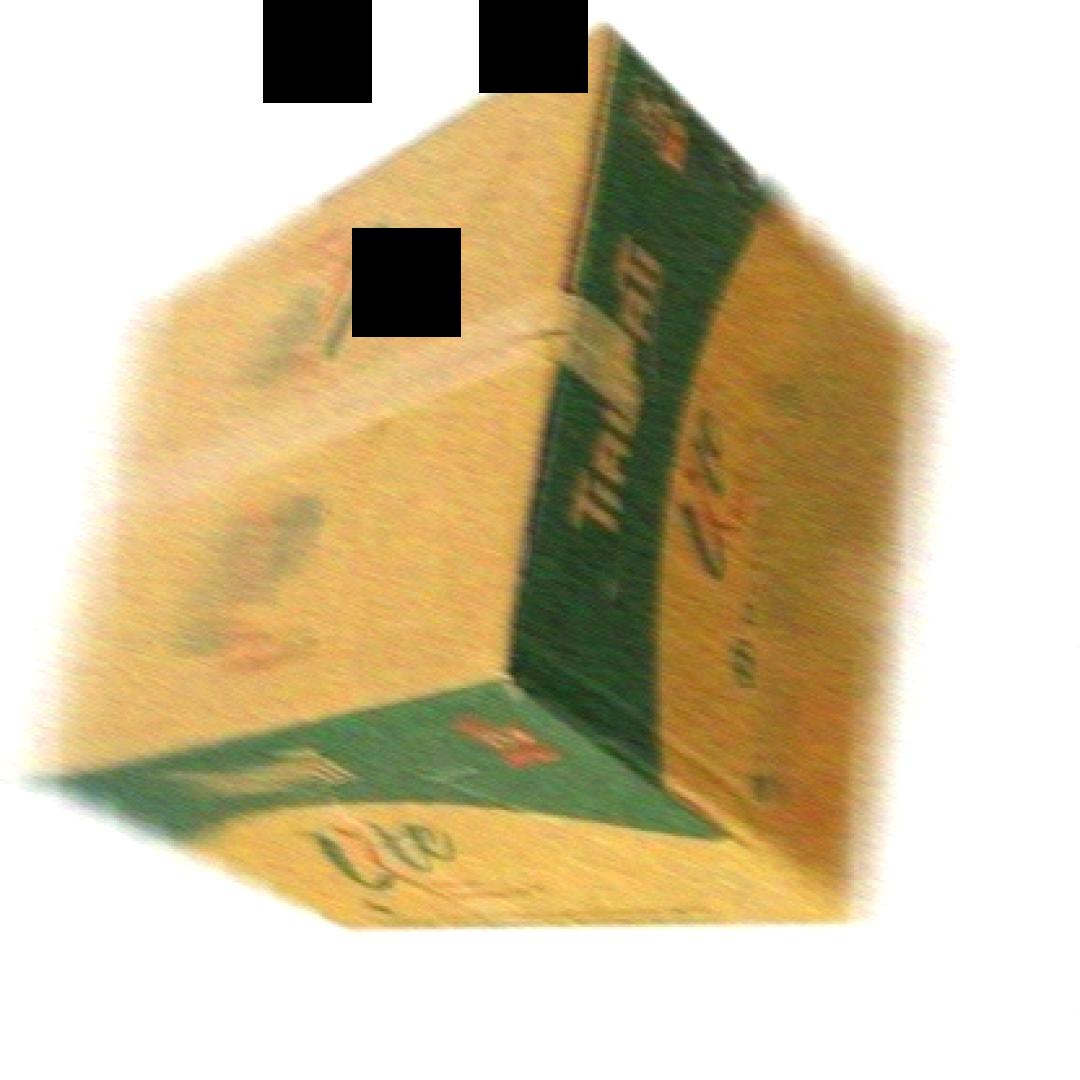package: (72, 57, 912, 932)
